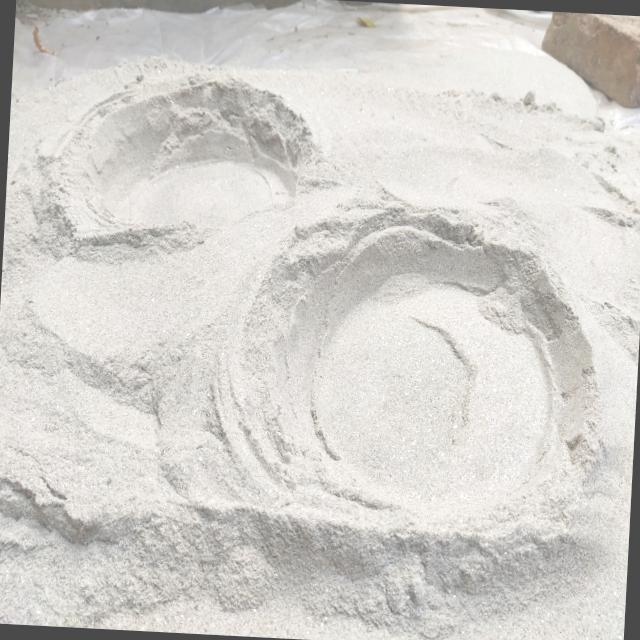C20: (265, 227, 598, 533), (75, 90, 299, 229)
